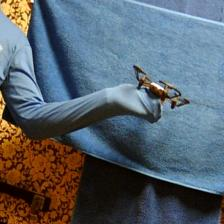drone: (130, 64, 193, 110)
